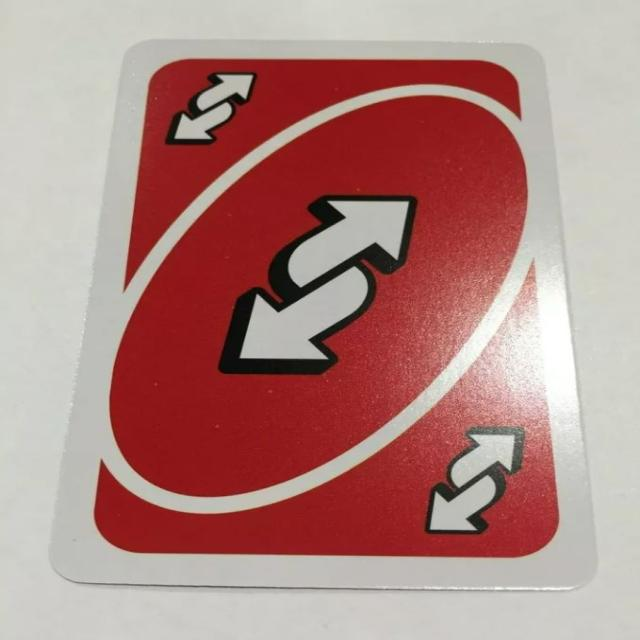Red_Card: (87, 51, 569, 568)
Reverse: (157, 68, 264, 154)
